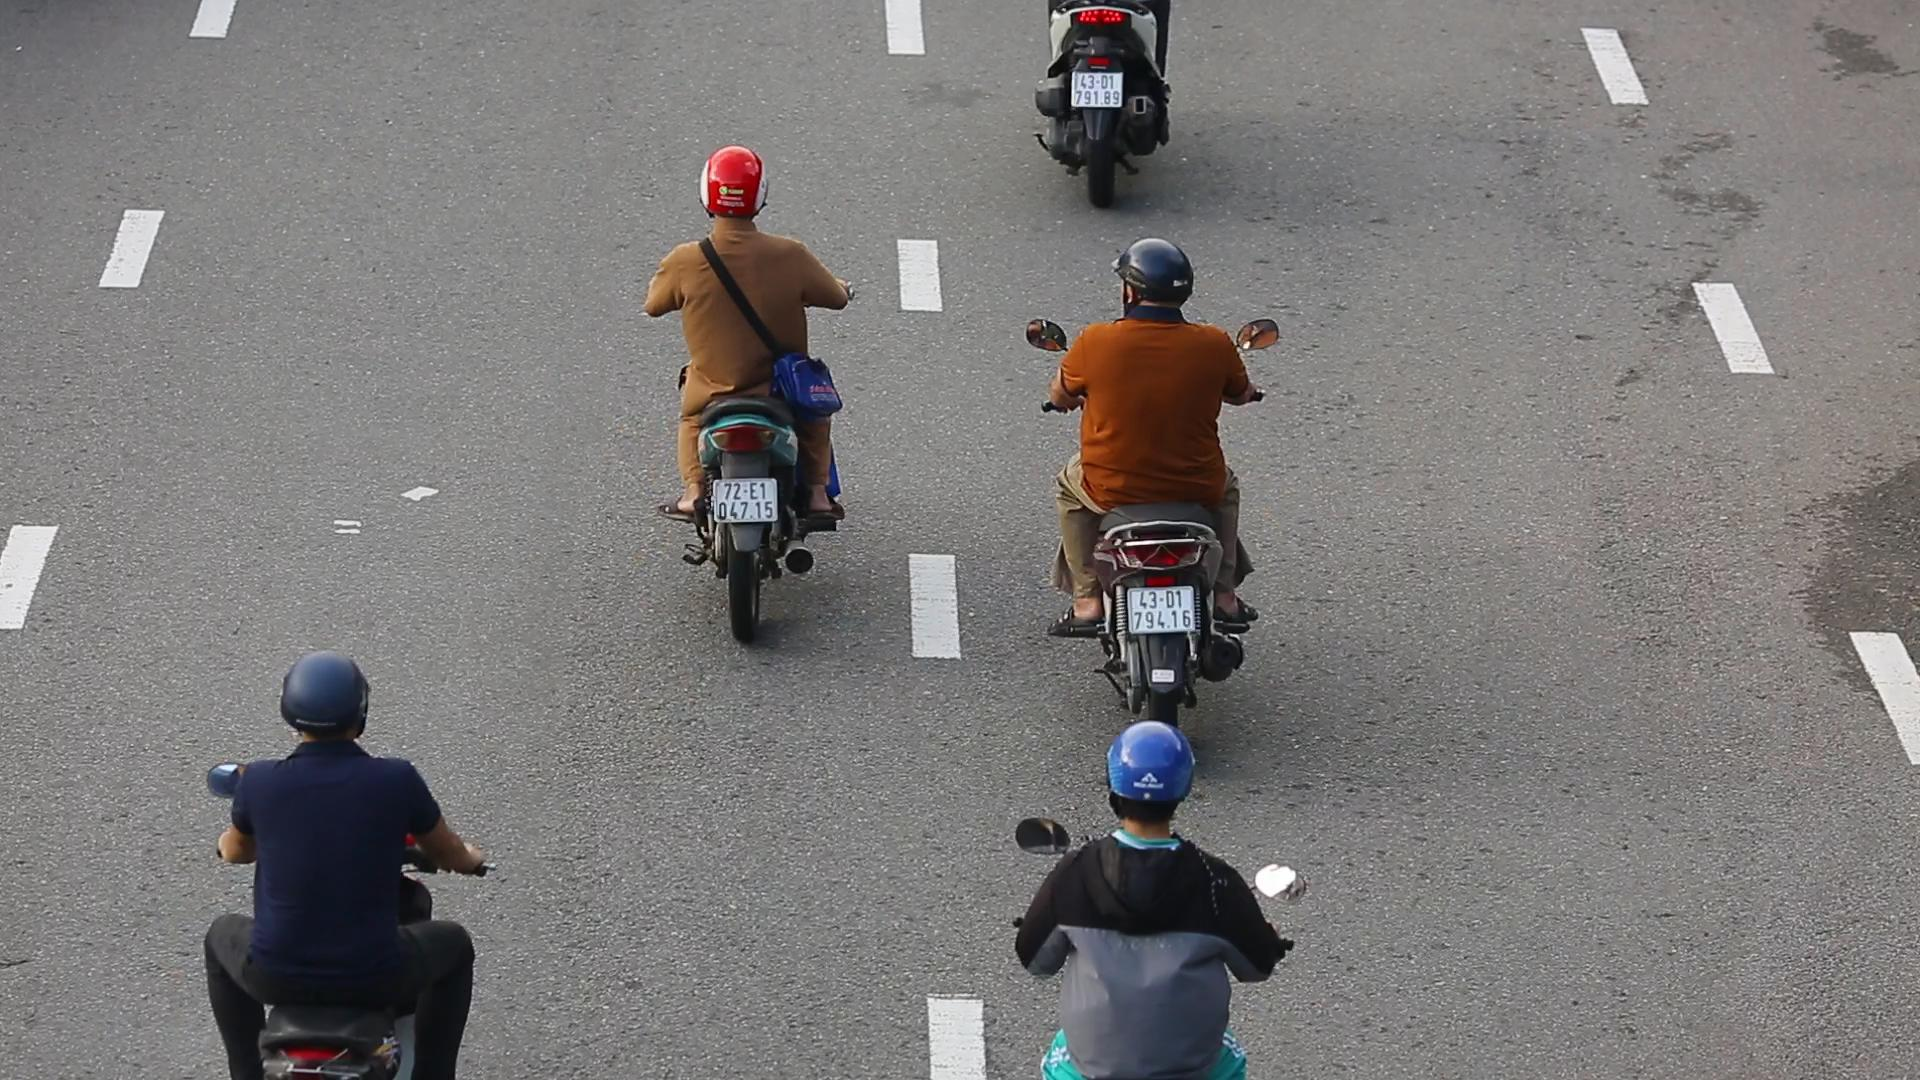motobike: (1030, 239, 1276, 716), (633, 138, 853, 644)
